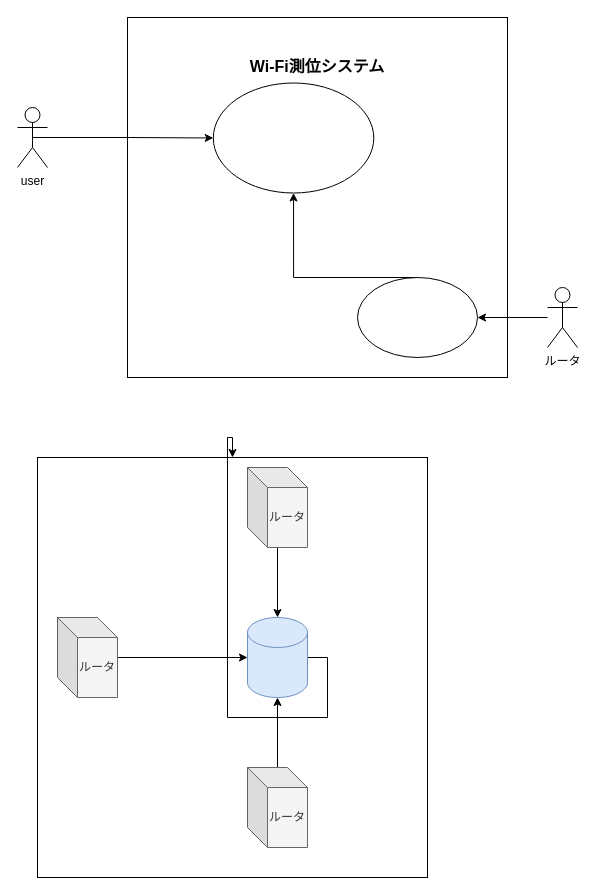
The diagram is 598 pixels wide and 895 high, and some of its shapes have lost their labels. The shapes that lost their labels are listed below. From the top down, each one's centre as x and y in pixels, then its label:
At point 293,137: "機器の位置情報 の表示".
At point 417,317: "データを受信する".
At point 277,657: "機器".
